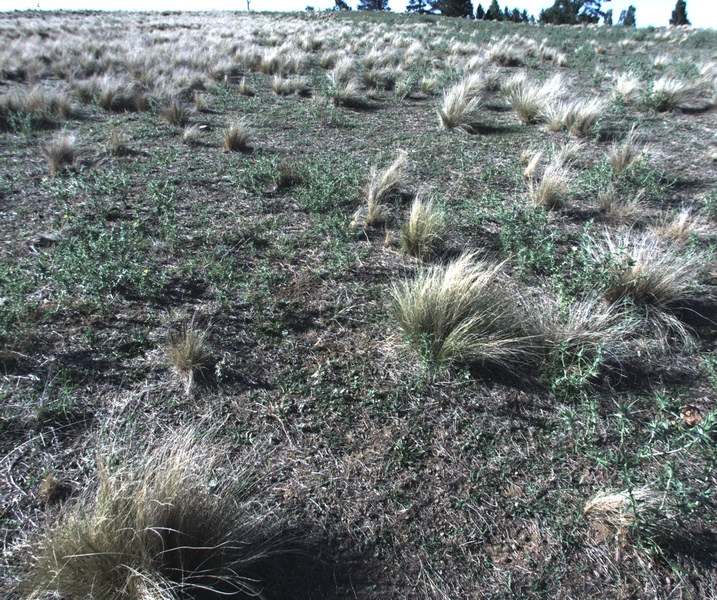st: (20, 429, 277, 600), (377, 263, 497, 370), (602, 236, 698, 334), (539, 301, 629, 379), (584, 472, 658, 534), (160, 321, 220, 380), (355, 154, 399, 222), (405, 199, 447, 260), (433, 86, 485, 132), (601, 179, 646, 227), (36, 130, 77, 182), (505, 77, 551, 123), (565, 101, 606, 151), (607, 132, 644, 175), (661, 208, 698, 251), (532, 170, 568, 212), (10, 92, 66, 116), (487, 39, 526, 69), (101, 75, 131, 112), (271, 72, 312, 97), (355, 64, 387, 96), (516, 147, 543, 181), (652, 78, 683, 107), (222, 119, 251, 148), (611, 70, 634, 105), (277, 47, 304, 76), (554, 139, 579, 170), (328, 63, 354, 91), (106, 126, 131, 154), (159, 99, 187, 123), (546, 101, 567, 133), (179, 125, 204, 151), (468, 71, 493, 93), (236, 75, 259, 97), (391, 78, 414, 95), (191, 87, 206, 112)
